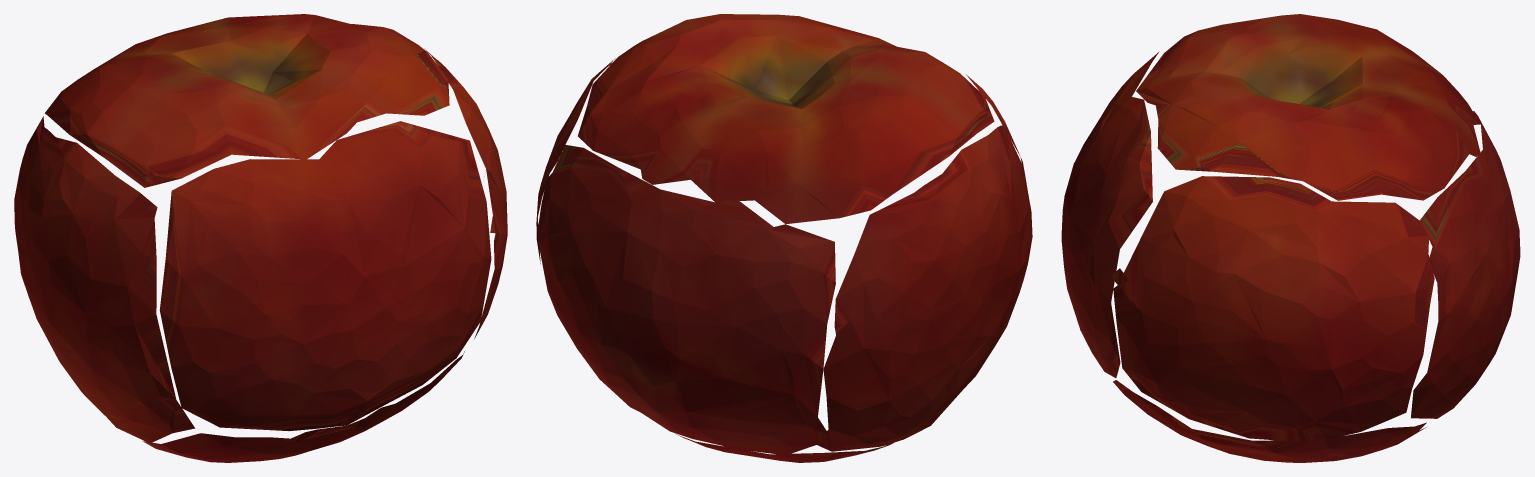
Rendered from food_produce_tomato_a01.glb.
The picture shows the model from 3 angles, left to right: view 1: azimuth 30°, elevation 25°; view 2: azimuth 150°, elevation 25°; view 3: azimuth 270°, elevation 25°; orthographic projection. The views are drawn at different scales.
Parts seen in each view (by area): view 1: geometry_0; view 2: geometry_0; view 3: geometry_0.
Boxes of the visible parts, x1,y1,x2,y2 form: geometry_0: (14,14,507,462); geometry_0: (536,14,1032,462); geometry_0: (1061,14,1520,462).
Size of the model in its own units: 0.42 by 0.367 by 0.4001.
1 material, 1 textured.
